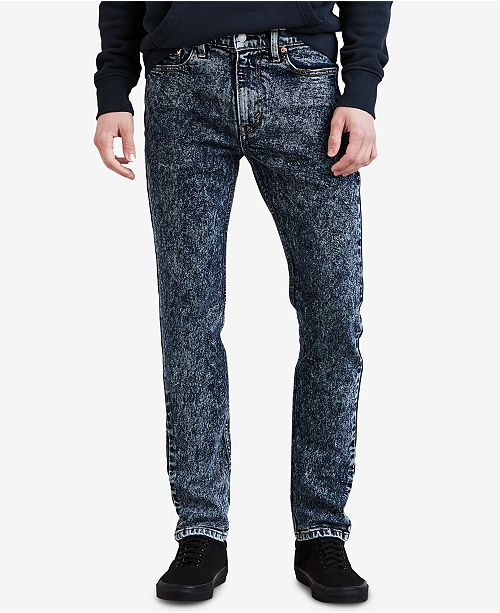jeans: (125, 30, 381, 547)
